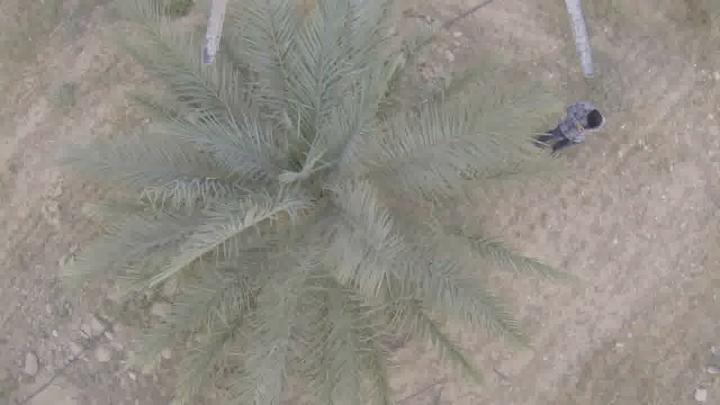Date-Palm-Crown: (183, 55, 441, 334)
